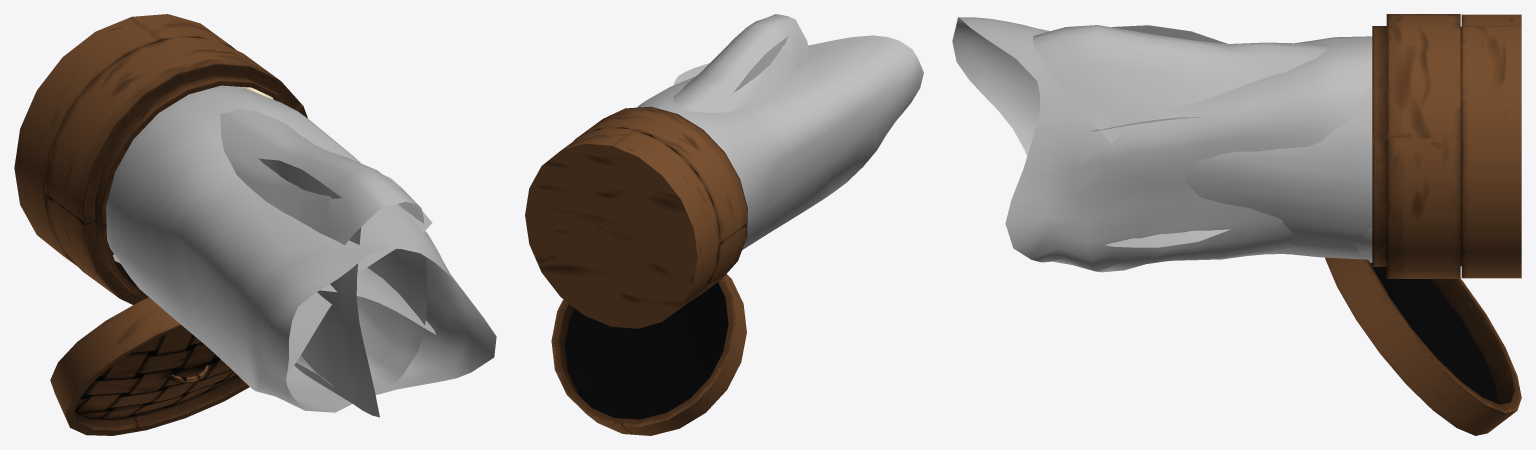
File: steamer_bao_buns.fbx
The picture shows the model from 3 angles, left to right: view 1: azimuth 30°, elevation 25°; view 2: azimuth 150°, elevation 25°; view 3: azimuth 270°, elevation 25°; orthographic projection. The views are drawn at different scales.
Parts seen in each view (by area): view 1: pPlane4, polySurface8, polySurface3, polySurface2; view 2: pPlane4, polySurface2, polySurface3, polySurface8; view 3: pPlane4, polySurface8, polySurface3, polySurface2.
Boxes of the visible parts, x1,y1,x2,y2 form: pPlane4: (106,85,496,417); polySurface8: (46,37,307,304); polySurface3: (50,297,249,435); polySurface2: (14,14,235,267); pPlane4: (637,14,923,249); polySurface2: (525,127,720,328); polySurface3: (551,274,746,435); polySurface8: (573,106,747,301); pPlane4: (952,17,1372,272); polySurface8: (1372,14,1460,278); polySurface3: (1325,257,1521,435); polySurface2: (1460,14,1521,278).
Size of the model in its own units: 2.14 by 3.3 by 4.29.
Materials: 3 (3 with a texture image).
